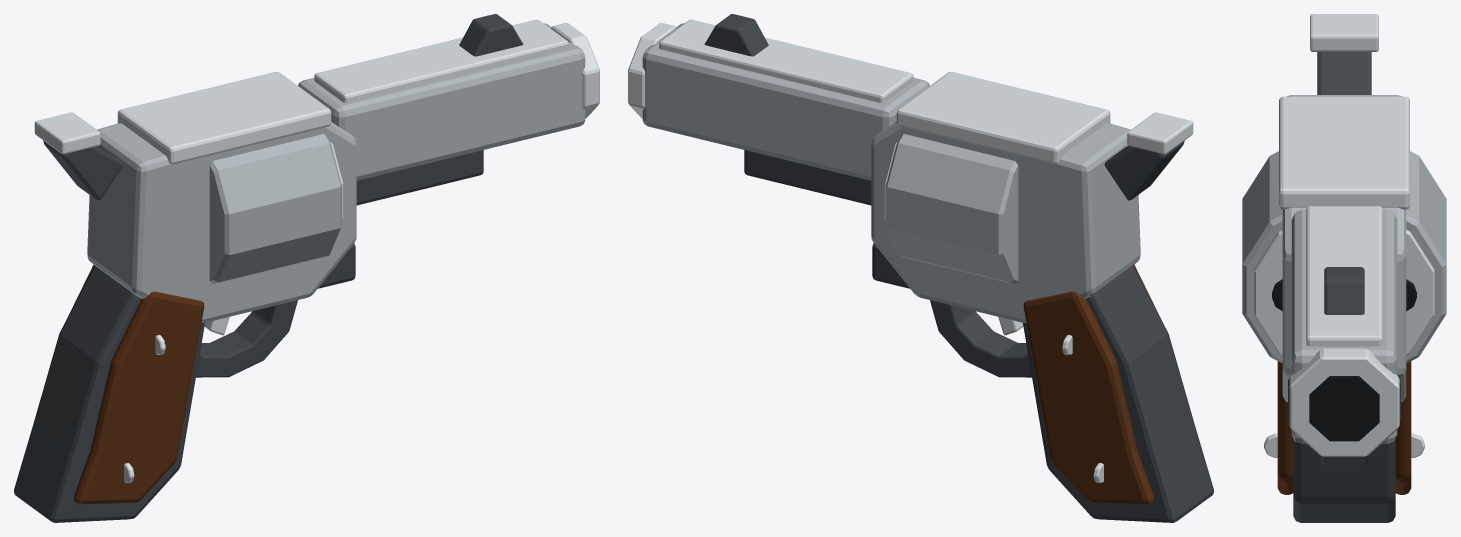
The model's file is lg_duel_revolver_stainless.fbx.
3 renders of one model, left to right at view 1: azimuth 30°, elevation 25°; view 2: azimuth 150°, elevation 25°; view 3: azimuth 270°, elevation 25°, orthographic. The views are drawn at different scales.
Parts seen in each view (by area): view 1: frame_heavy_faceted_receiver, barrel_main_octagonal_block, grip_full_tang_steel, walnut_grip_panel_left, cylinder_12sided_body, frame_top_bright_rib, barrel_top_highlight_strip, trigger_guard_faceted, barrel_underlug, hammer_spur, hammer_cross_hatch_cap, front_sight (+2 smaller); view 2: frame_heavy_faceted_receiver, barrel_main_octagonal_block, grip_full_tang_steel, walnut_grip_panel_right, cylinder_12sided_body, frame_top_bright_rib, barrel_top_highlight_strip, trigger_guard_faceted, barrel_underlug, hammer_spur, hammer_cross_hatch_cap, front_sight (+2 smaller); view 3: frame_top_bright_rib, barrel_top_highlight_strip, cylinder_12sided_body, grip_full_tang_steel, muzzle_bright_lip, barrel_main_octagonal_block, cylinder_front_bright_cap, frame_heavy_faceted_receiver, muzzle_dark_bore, hammer_cross_hatch_cap, hammer_spur, front_sight (+7 smaller).
Boxes of the visible parts, <box> form: frame_heavy_faceted_receiver: <box>87,122,356,323</box>; barrel_main_octagonal_block: <box>298,23,585,180</box>; grip_full_tang_steel: <box>14,265,204,522</box>; walnut_grip_panel_left: <box>73,291,204,504</box>; cylinder_12sided_body: <box>209,134,341,283</box>; frame_top_bright_rib: <box>117,71,331,164</box>; barrel_top_highlight_strip: <box>314,19,568,102</box>; trigger_guard_faceted: <box>196,300,297,377</box>; barrel_underlug: <box>356,150,483,205</box>; hammer_spur: <box>43,141,123,200</box>; hammer_cross_hatch_cap: <box>34,112,100,154</box>; front_sight: <box>459,14,523,56</box>; frame_heavy_faceted_receiver: <box>871,122,1140,323</box>; barrel_main_octagonal_block: <box>642,23,929,180</box>; grip_full_tang_steel: <box>1023,265,1213,522</box>; walnut_grip_panel_right: <box>1023,291,1154,504</box>; cylinder_12sided_body: <box>886,134,1018,283</box>; frame_top_bright_rib: <box>896,71,1110,164</box>; barrel_top_highlight_strip: <box>659,19,913,102</box>; trigger_guard_faceted: <box>930,300,1031,377</box>; barrel_underlug: <box>744,150,871,205</box>; hammer_spur: <box>1104,141,1184,200</box>; hammer_cross_hatch_cap: <box>1127,112,1193,154</box>; front_sight: <box>704,14,768,56</box>; frame_top_bright_rib: <box>1279,96,1409,209</box>; barrel_top_highlight_strip: <box>1306,206,1382,346</box>; cylinder_12sided_body: <box>1242,151,1446,363</box>; grip_full_tang_steel: <box>1293,438,1395,522</box>; muzzle_bright_lip: <box>1289,348,1399,456</box>; barrel_main_octagonal_block: <box>1291,210,1397,443</box>; cylinder_front_bright_cap: <box>1254,229,1434,354</box>; frame_heavy_faceted_receiver: <box>1282,95,1406,401</box>; muzzle_dark_bore: <box>1309,376,1379,441</box>; hammer_cross_hatch_cap: <box>1310,14,1378,51</box>; hammer_spur: <box>1317,52,1371,94</box>; front_sight: <box>1324,267,1364,314</box>.
Size of the model in its own units: 28.01 by 105 by 71.52.
